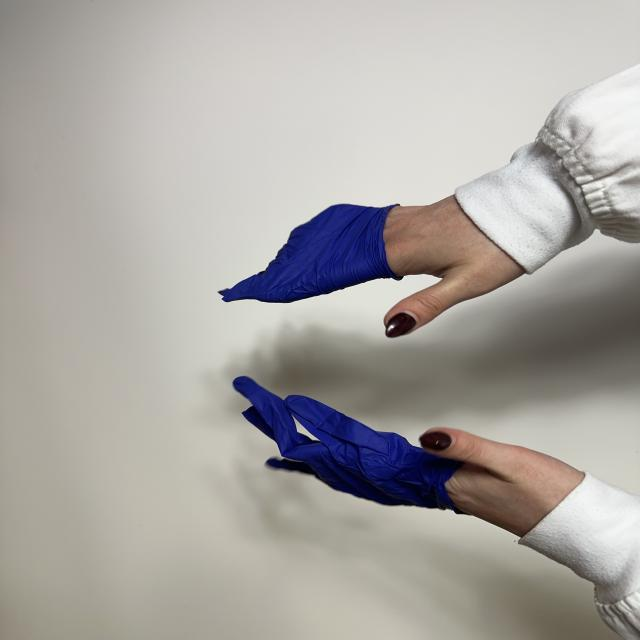glove_partial: (234, 377, 586, 538), (222, 196, 524, 337)
